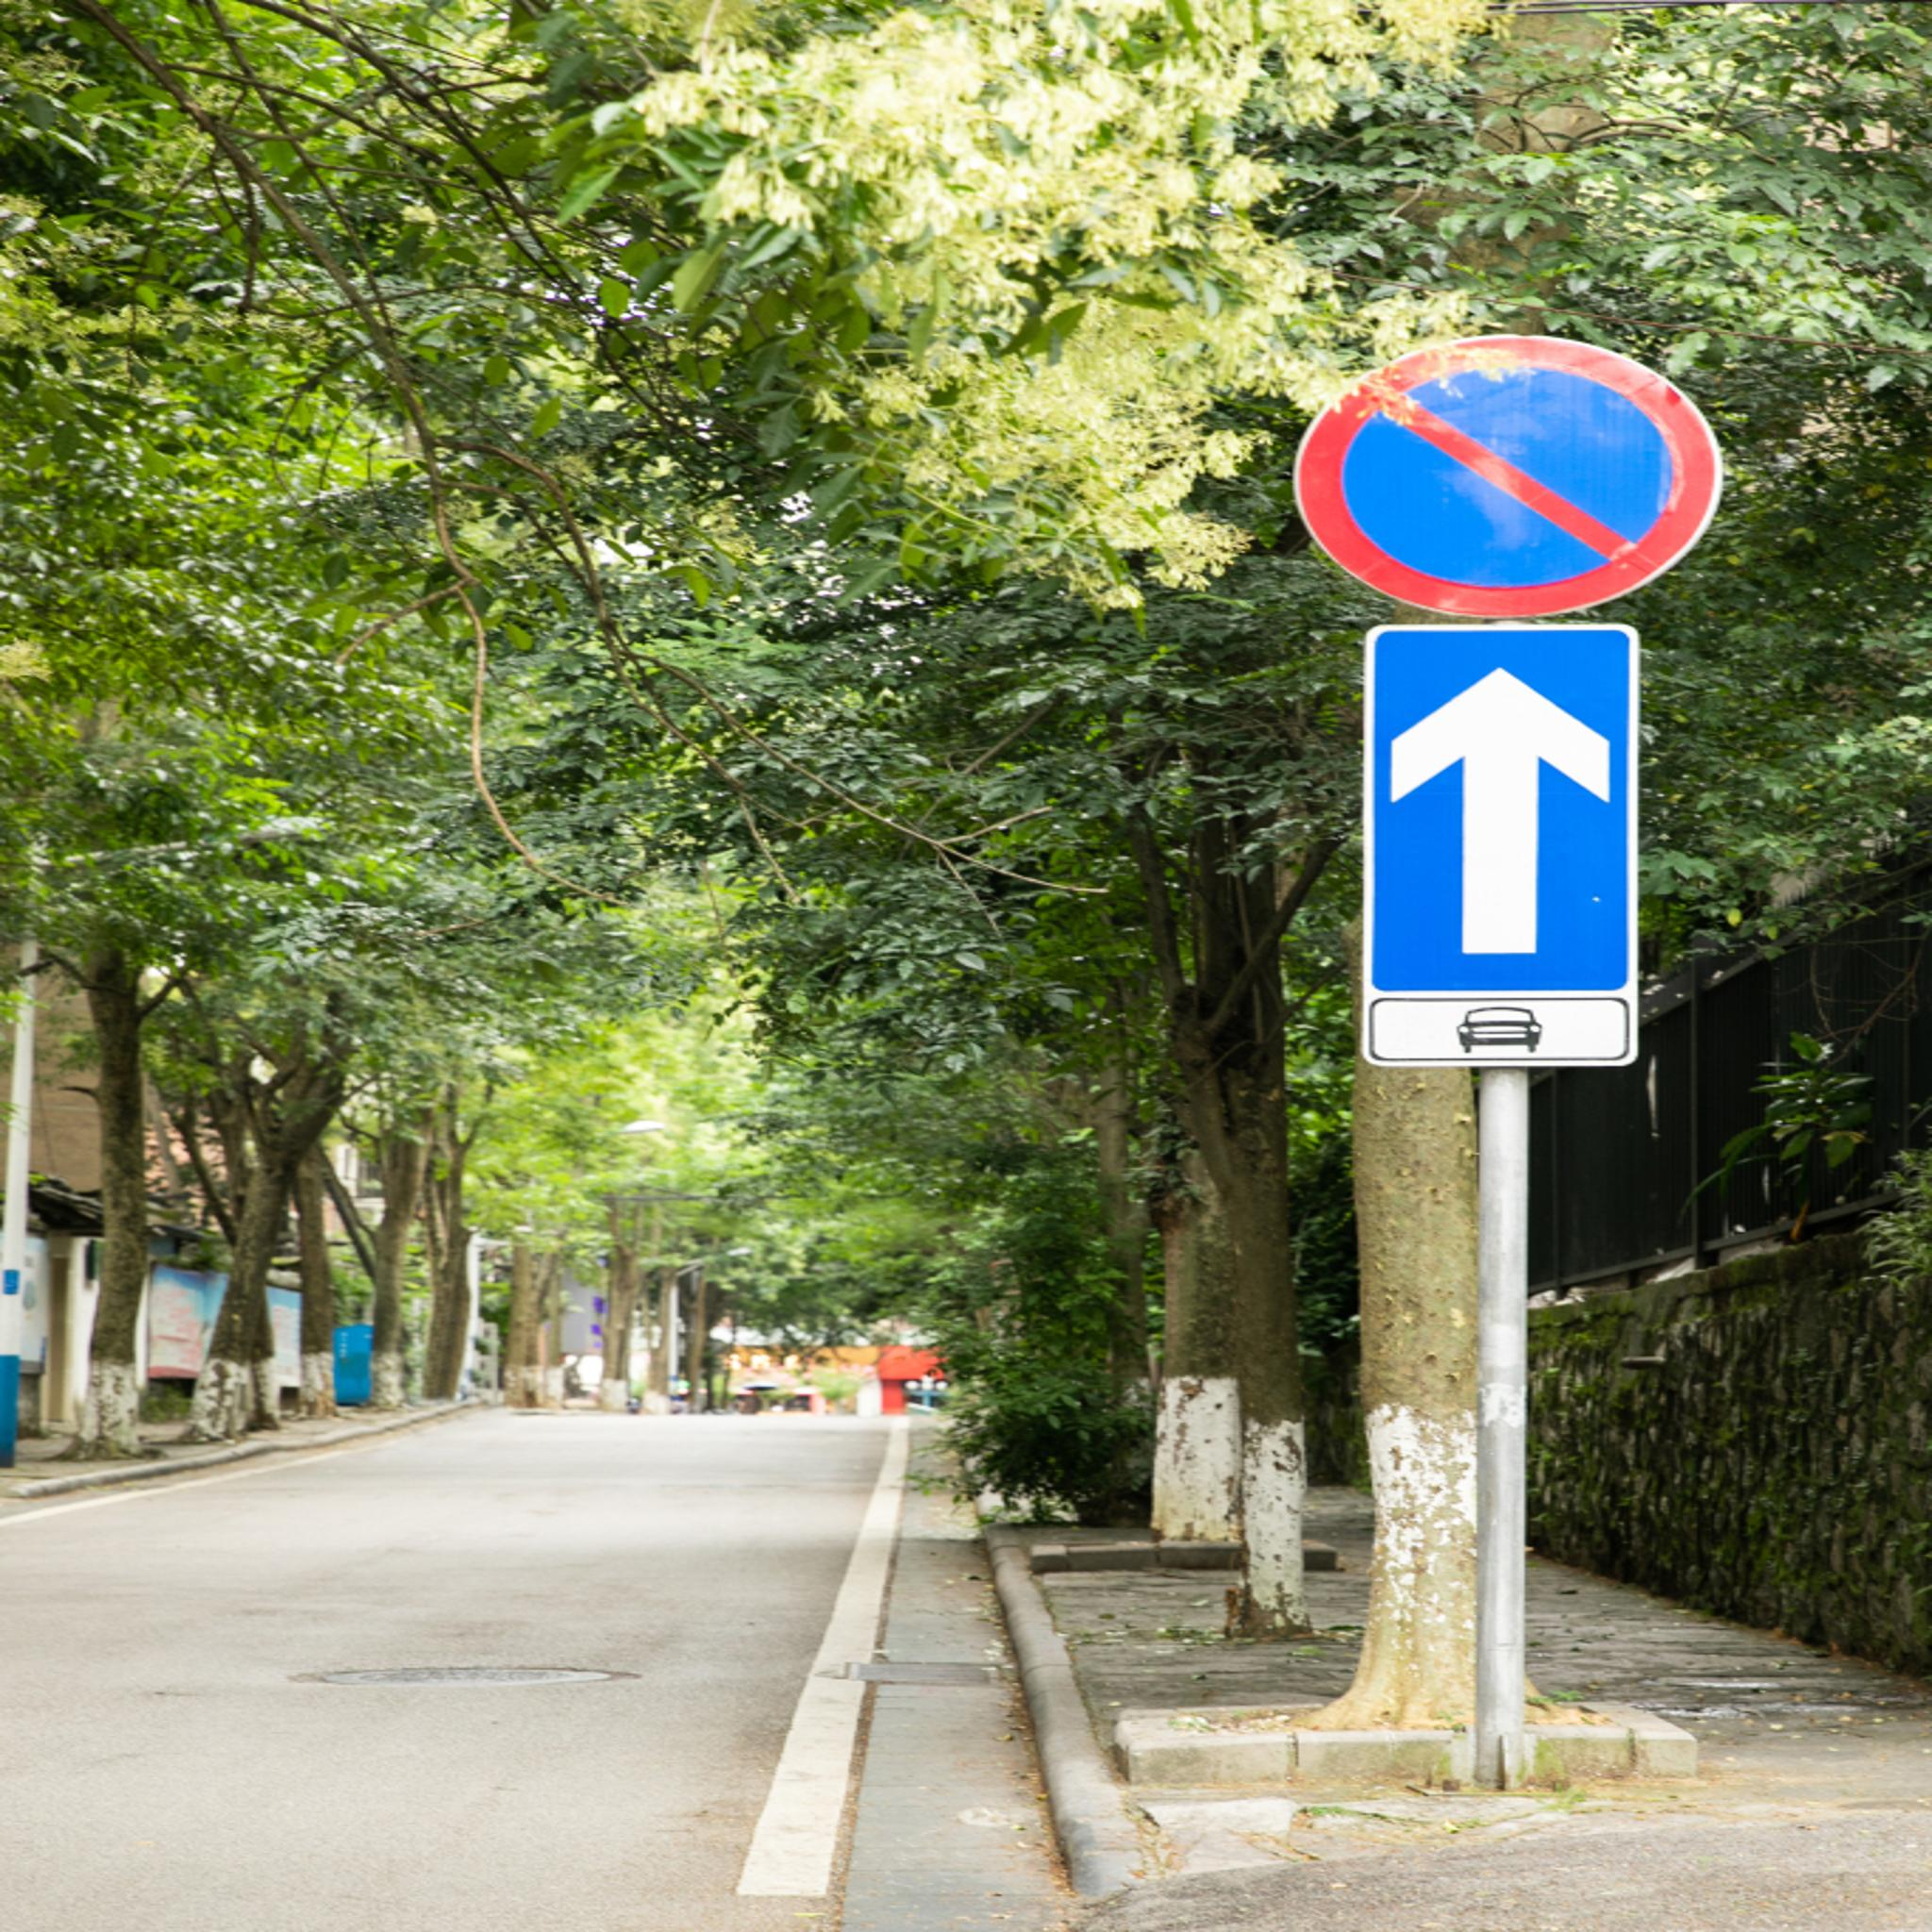pnl: (1295, 336, 1718, 619)
